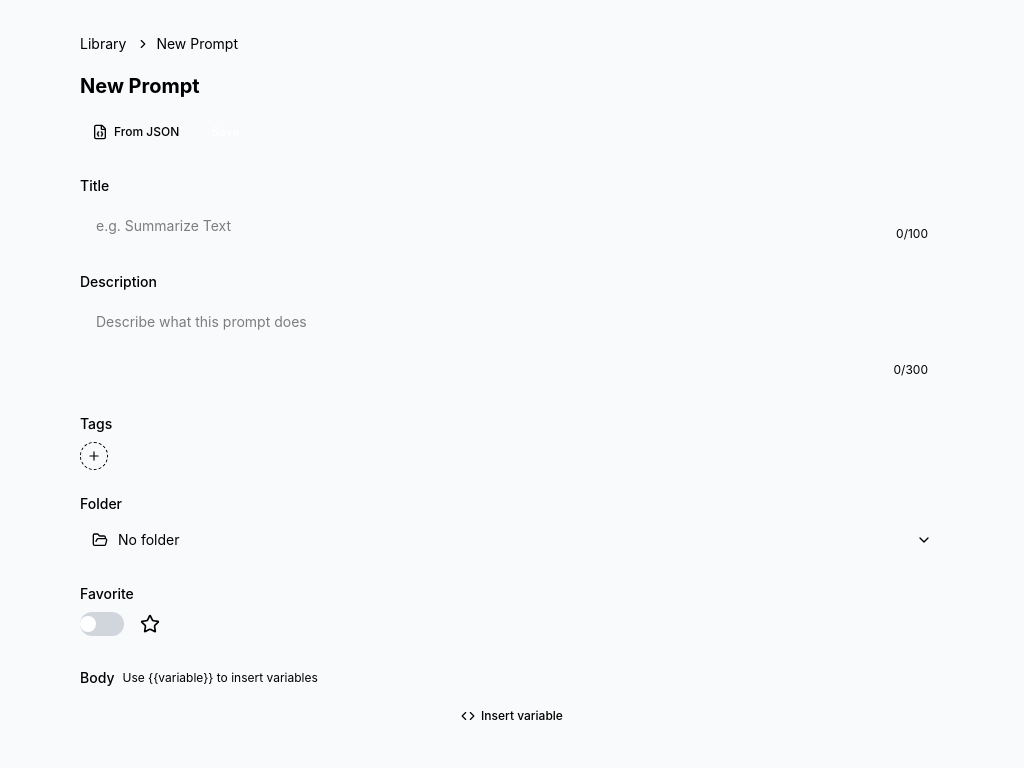
it: PromptEditor › shows folder creation failures without closing the folder field
Click the dropdown labelled "folder": coordinates (149, 540) [80, 520, 944, 560]
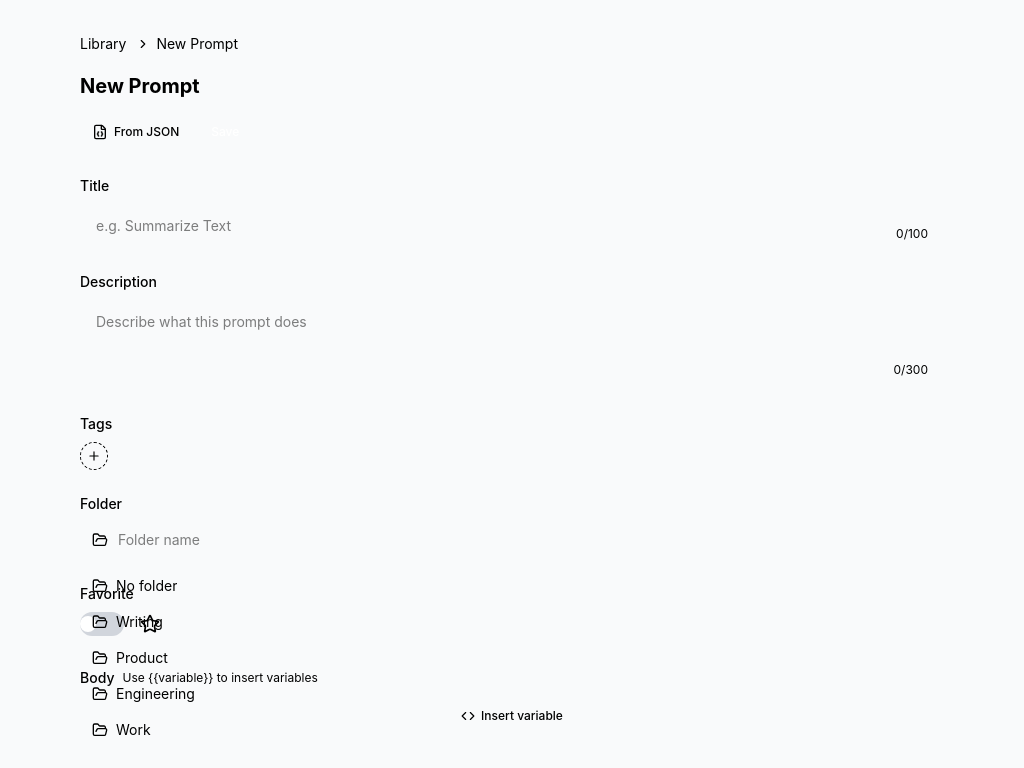
In the dropdown labelled "Folder": coordinates (525, 540) [118, 530, 932, 550], type "Client Work"
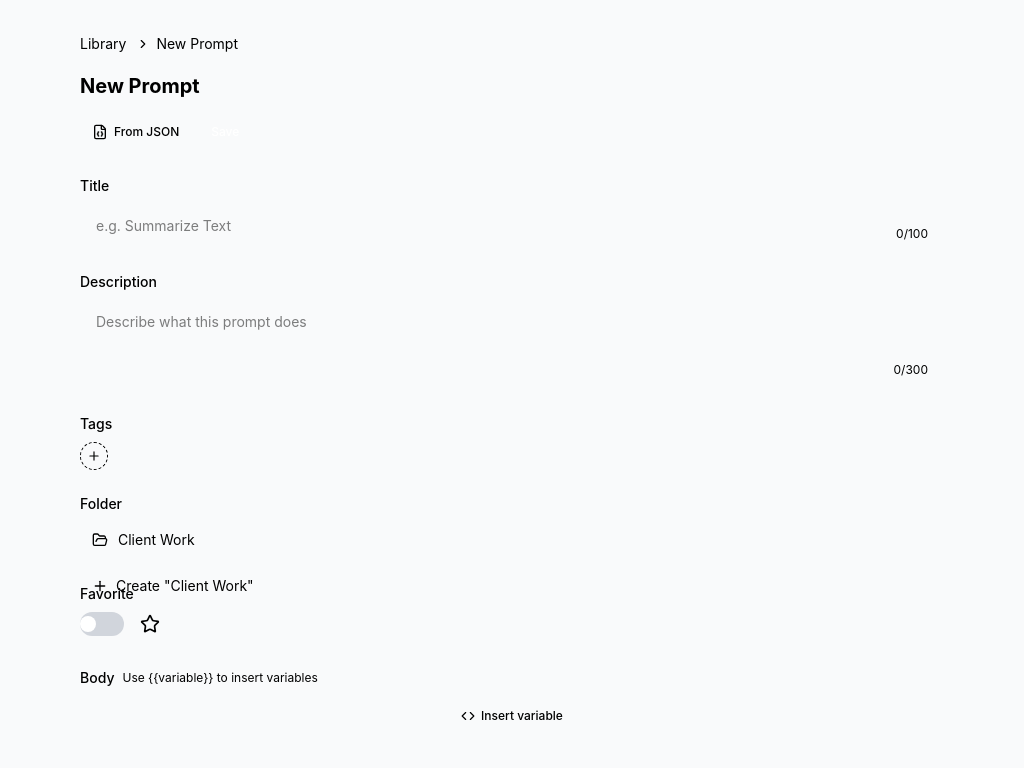
Click the option "Create \"Client Work\"": coordinates (185, 586) [84, 568, 940, 604]
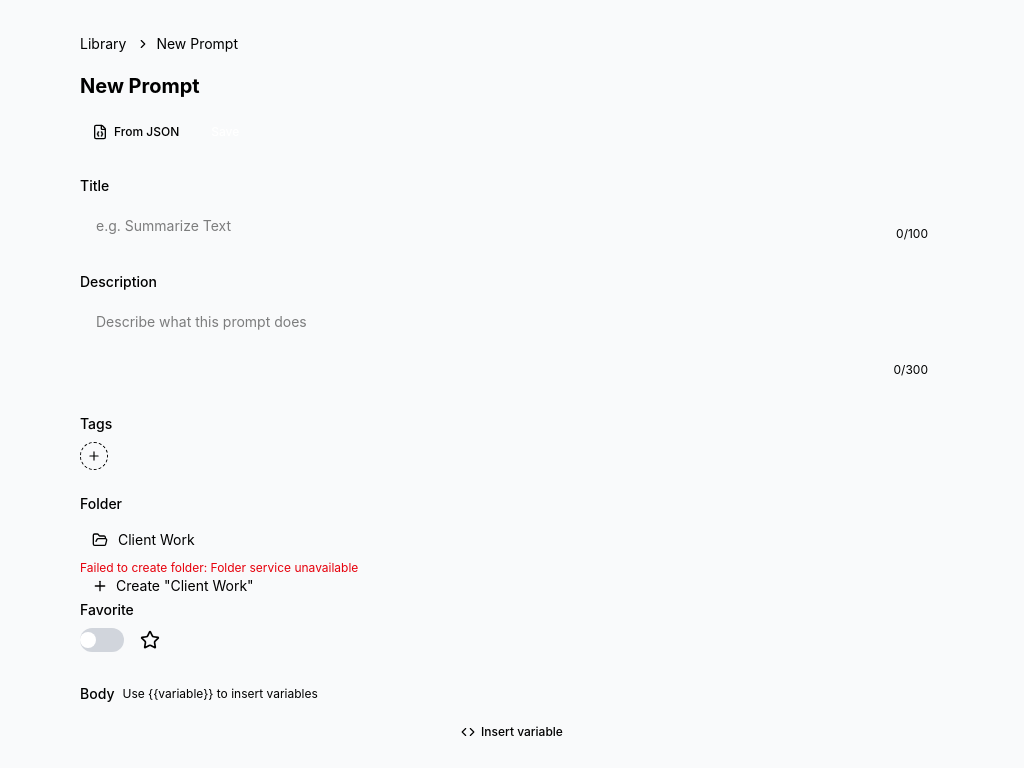
Result: the message reads "Failed to create folder: Folder service unavailable" at [80, 560, 358, 575]
